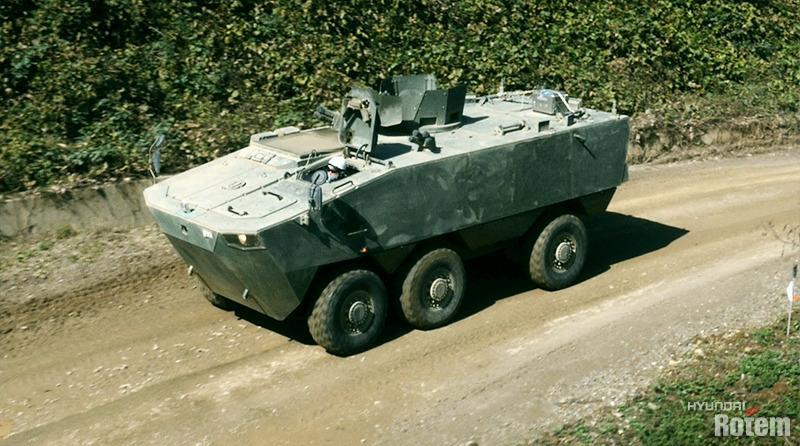MIL_IFV: (141, 71, 638, 355)
